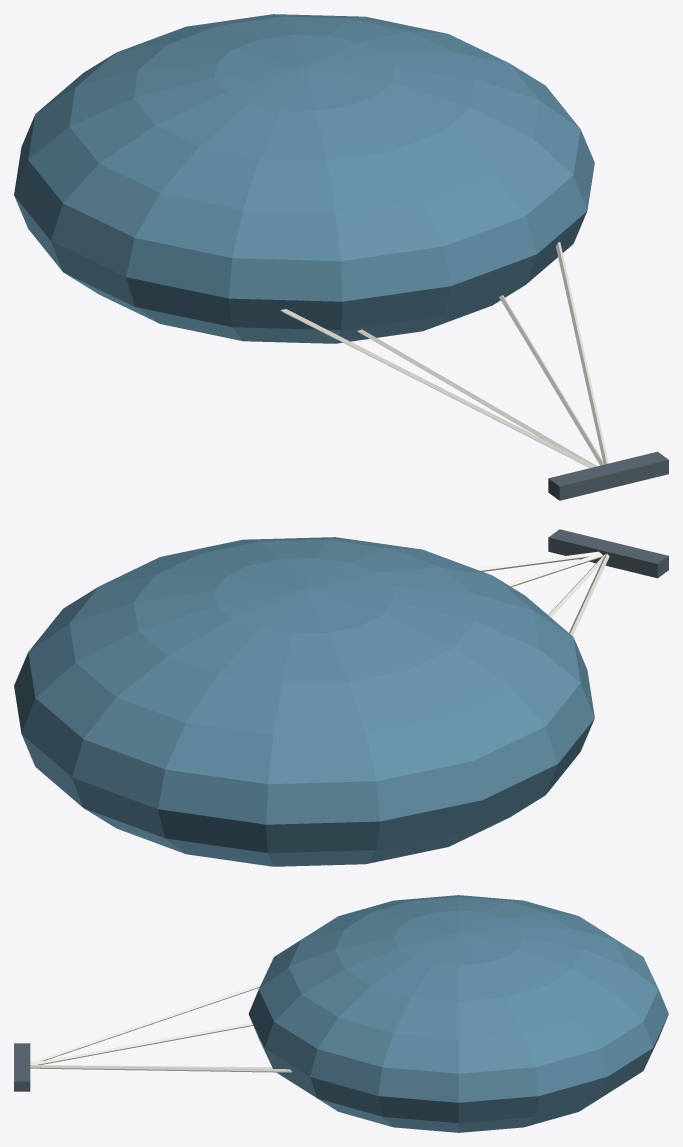
File: american-football-stadium-kit-resistance-parachute-309496f5.glb
3 views of the same model, one above another, from view 1: azimuth 30°, elevation 25°; view 2: azimuth 150°, elevation 25°; view 3: azimuth 270°, elevation 25° (orthographic). The views are drawn at different scales.
Visible parts, largest first — view 1: resistance-parachute; view 2: resistance-parachute; view 3: resistance-parachute.
Boxes of the visible parts, x1,y1,x2,y2 form: resistance-parachute: (14, 14, 668, 500); resistance-parachute: (14, 529, 668, 866); resistance-parachute: (14, 895, 668, 1132).
Bounding box in the file's own units: 1.3 × 0.546 × 2.03.
